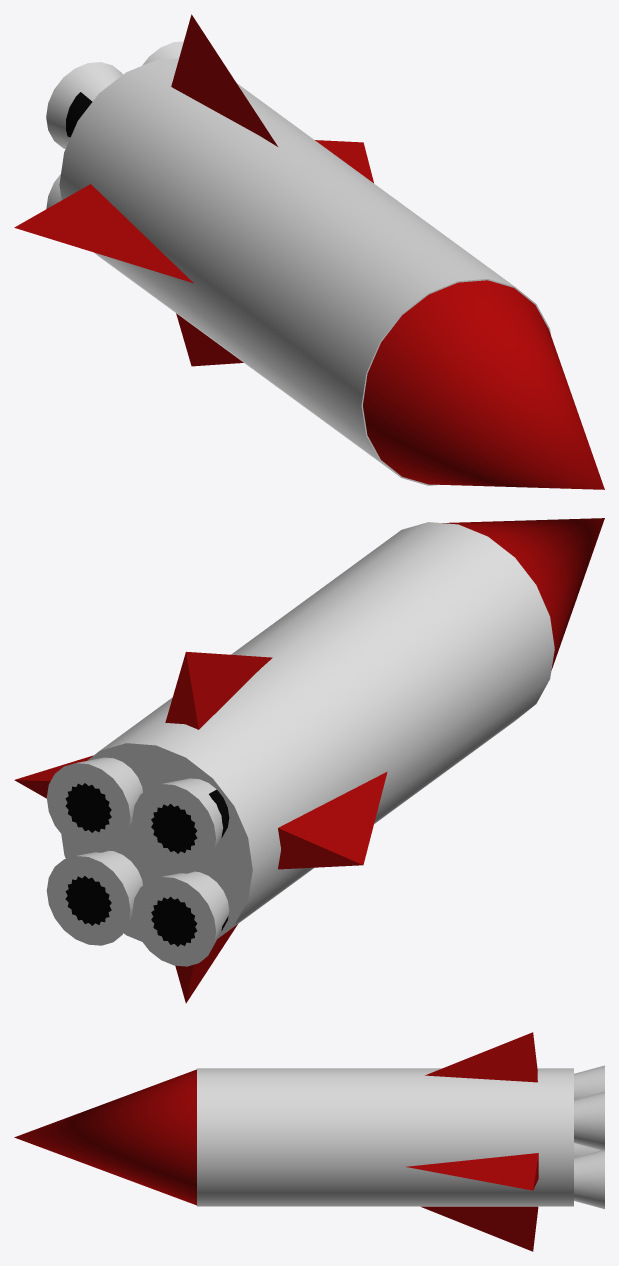
File: HomingMissile.fbx
The picture shows the model from 3 angles, top to bottom: view 1: azimuth 30°, elevation 25°; view 2: azimuth 150°, elevation 25°; view 3: azimuth 270°, elevation 25°; orthographic projection. The views are drawn at different scales.
Parts seen in each view (by area): view 1: pCylinder1, pCone1, pPyramid5, pPyramid2, pCylinder3, pPyramid4, pPyramid3; view 2: pCylinder1, pCone1, pCylinder3, pCylinder4, pCylinder2, pCylinder5, pPyramid5, pPyramid2, pPyramid4, pPyramid3; view 3: pCylinder1, pCone1, pPyramid2, pPyramid4, pPyramid3, pCylinder2, pCylinder5, pCylinder3.
Part boxes in pixels (x1=…): pCylinder1: x1=59, y1=58, x2=551, y2=485; pCone1: x1=363, y1=280, x2=604, y2=489; pPyramid5: x1=14, y1=184, x2=193, y2=283; pPyramid2: x1=171, y1=14, x2=277, y2=146; pCylinder3: x1=46, y1=62, x2=122, y2=148; pPyramid4: x1=176, y1=313, x2=243, y2=366; pPyramid3: x1=315, y1=140, x2=373, y2=182; pCylinder1: x1=61, y1=522, x2=554, y2=941; pCone1: x1=442, y1=518, x2=604, y2=670; pCylinder3: x1=132, y1=778, x2=229, y2=873; pCylinder4: x1=132, y1=871, x2=229, y2=966; pCylinder2: x1=46, y1=757, x2=142, y2=852; pCylinder5: x1=46, y1=850, x2=142, y2=945; pPyramid5: x1=278, y1=771, x2=387, y2=869; pPyramid2: x1=165, y1=651, x2=272, y2=729; pPyramid4: x1=175, y1=924, x2=237, y2=1003; pPyramid3: x1=14, y1=755, x2=93, y2=798; pCylinder1: x1=197, y1=1068, x2=573, y2=1206; pCone1: x1=14, y1=1069, x2=196, y2=1205; pPyramid2: x1=425, y1=1032, x2=537, y2=1082; pPyramid4: x1=421, y1=1206, x2=538, y2=1251; pPyramid3: x1=406, y1=1153, x2=538, y2=1190; pCylinder2: x1=574, y1=1091, x2=604, y2=1151; pCylinder5: x1=574, y1=1150, x2=604, y2=1209; pCylinder3: x1=574, y1=1065, x2=604, y2=1099.
Size of the model in its own units: 2.71 by 2.61 by 6.37.
